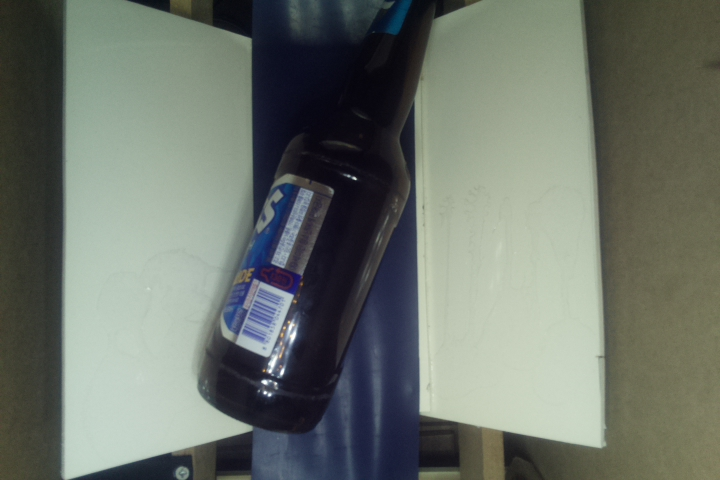makju: (197, 1, 442, 440)
